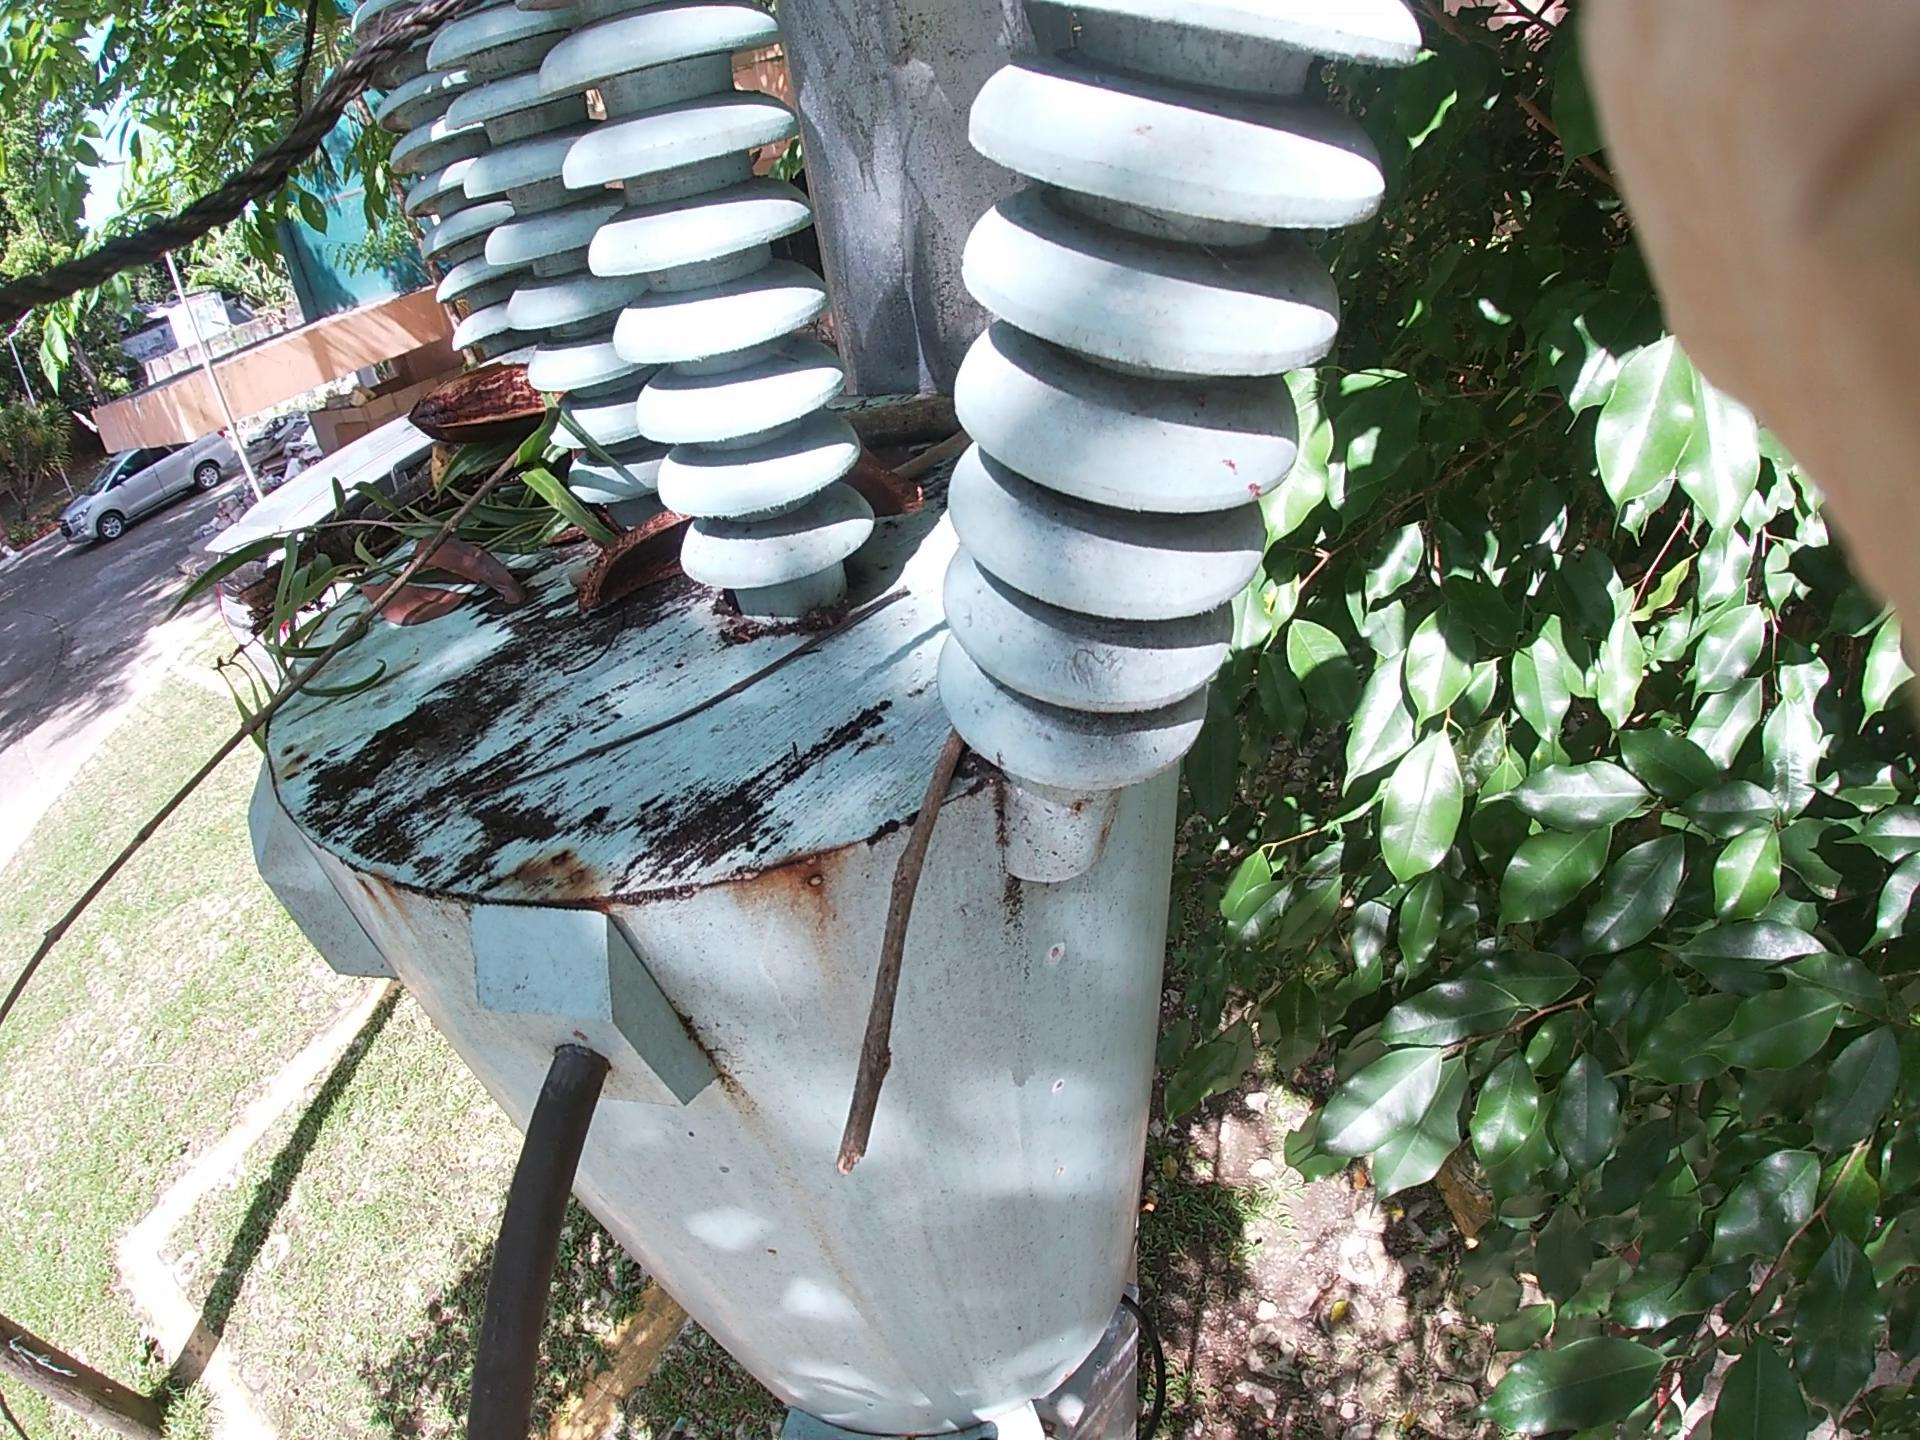branch with leaves: (165, 275, 680, 681)
leaf: (354, 511, 508, 625)
mahogany fruit: (438, 357, 599, 452), (562, 522, 730, 604)
tree branch: (59, 417, 547, 917), (804, 690, 1034, 1203), (531, 593, 989, 805), (804, 383, 1072, 502)
